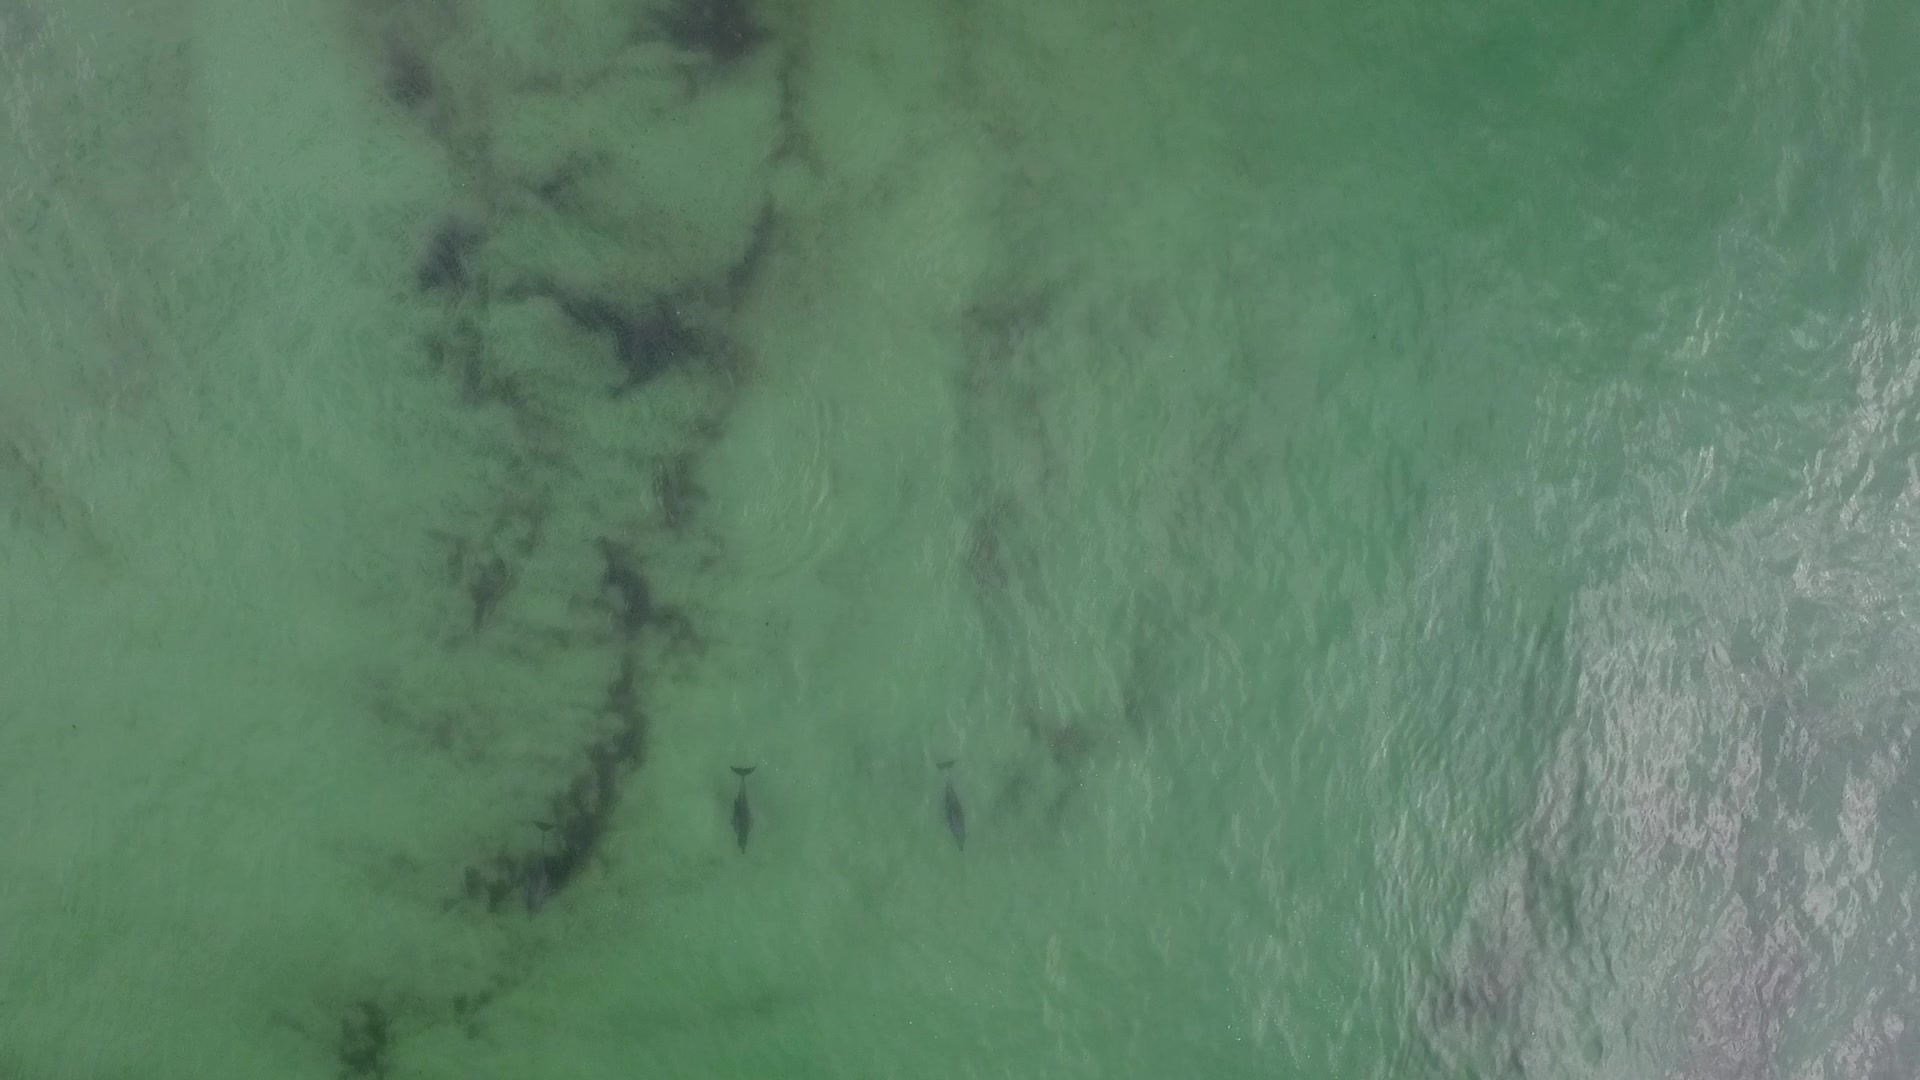dolphin: (916, 741, 997, 852), (717, 745, 762, 864)
